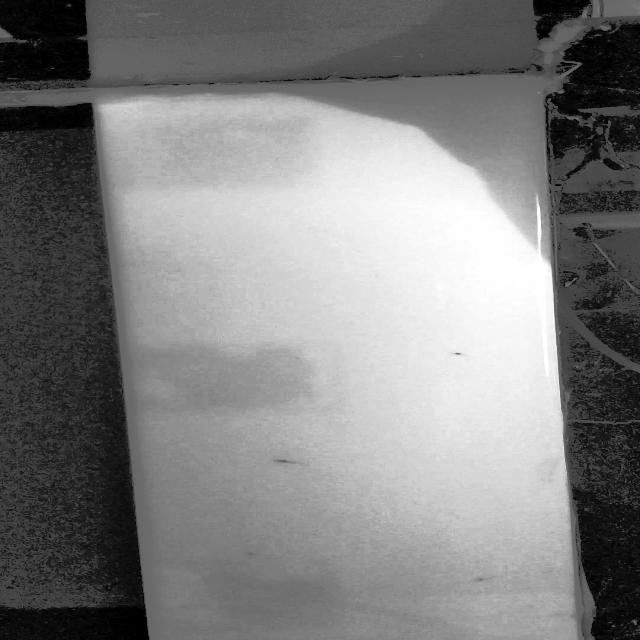shrimp: (230, 546, 258, 565), (442, 349, 479, 361), (270, 456, 308, 467), (456, 572, 490, 582)
